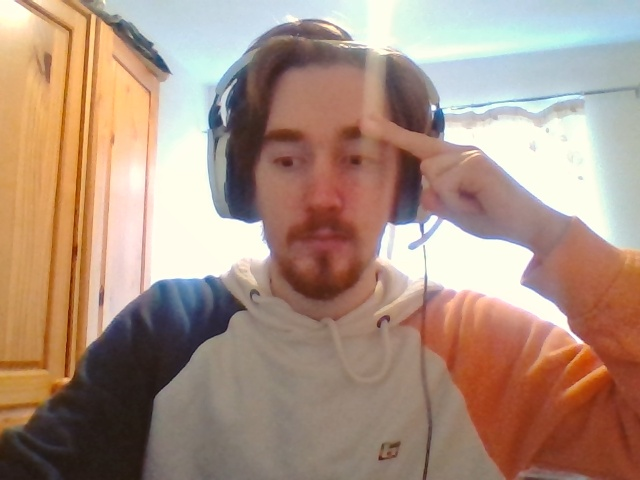name: (360, 115, 490, 230)
